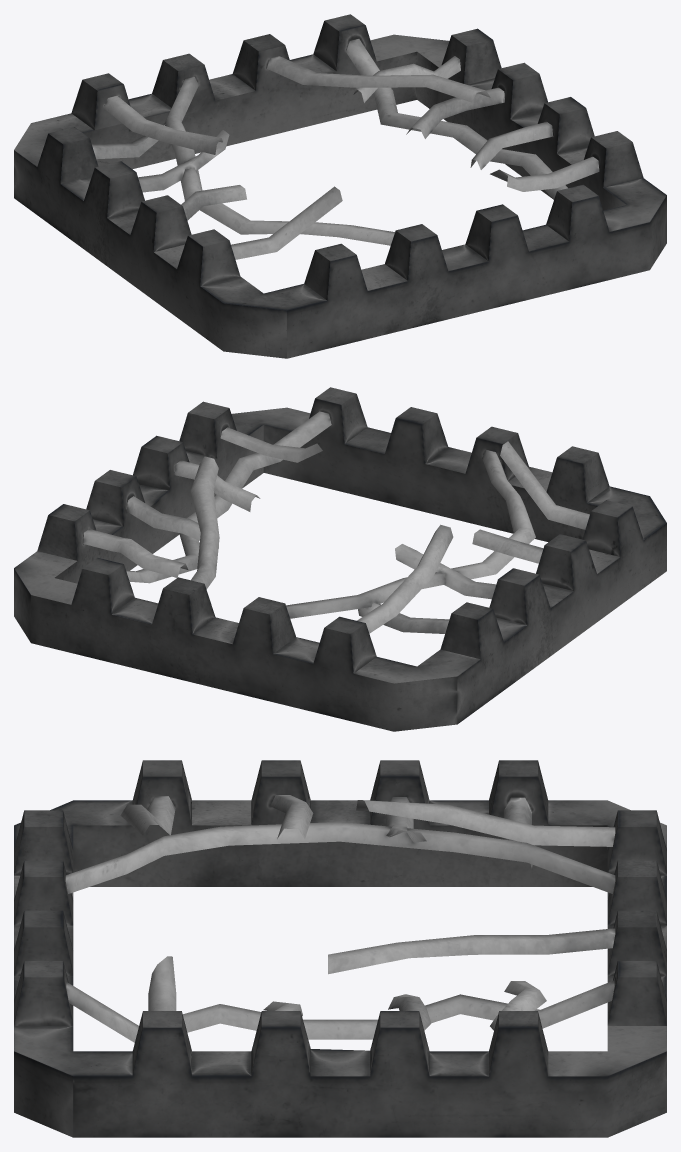
Rendered from TentacleVentilation.fbx.
3 renders of one model, top to bottom at view 1: azimuth 30°, elevation 25°; view 2: azimuth 150°, elevation 25°; view 3: azimuth 270°, elevation 25°, orthographic. The views are drawn at different scales.
Parts seen in each view (by area): view 1: SusVent; view 2: SusVent; view 3: SusVent.
Part boxes in pixels (left/top/right/bottom): SusVent: left=14, top=14, right=666, bottom=358; SusVent: left=14, top=387, right=666, bottom=731; SusVent: left=14, top=760, right=666, bottom=1137.
Size of the model in its own units: 242 by 58.5 by 242.
